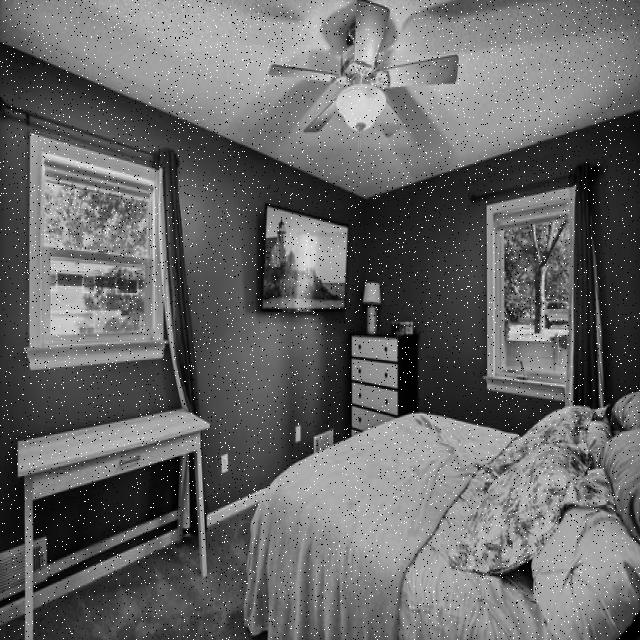bed: (252, 402, 640, 640)
